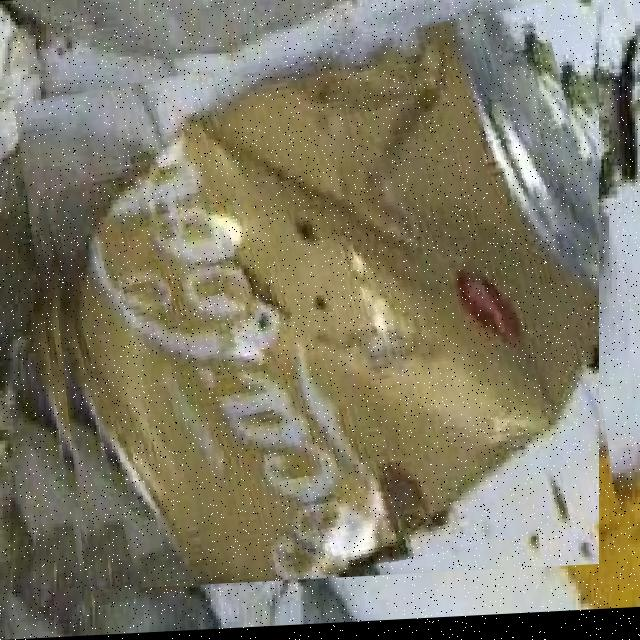litter: (30, 23, 599, 593)
